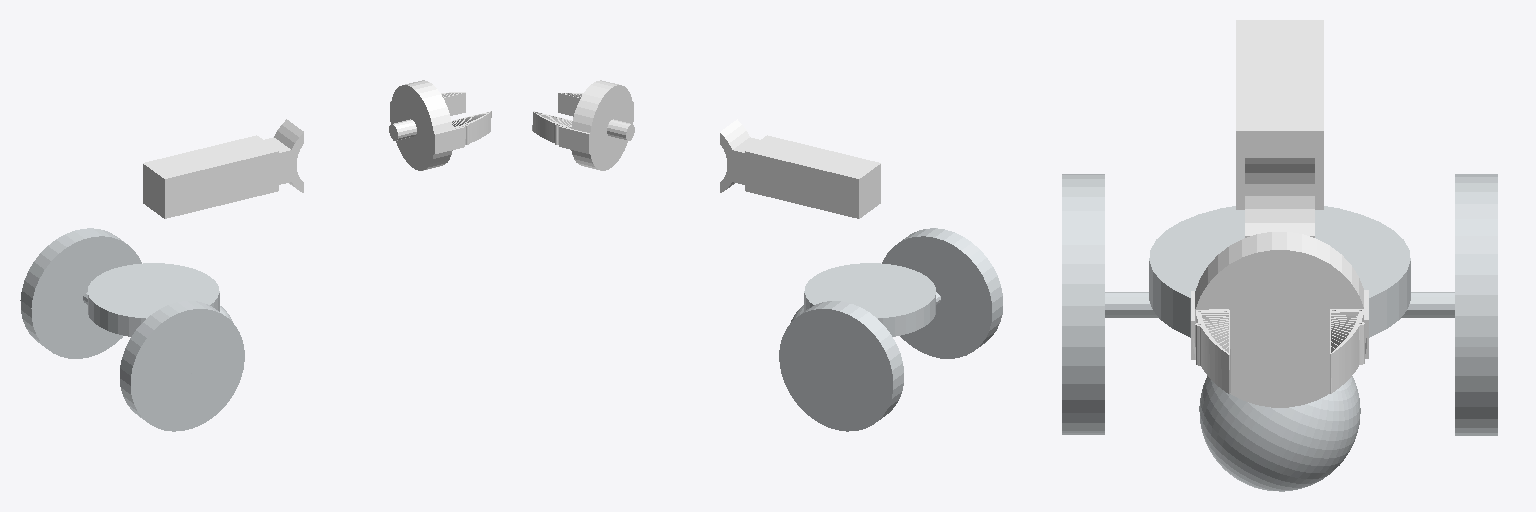
The robot description file, URDF, robot "new_car":
<?xml version="1.0" encoding="utf-8"?>
<!-- This URDF was automatically created by SolidWorks to URDF Exporter! Originally created by [author] ([email redacted]) 
     Commit Version: 1.6.0-4-g7f85cfe  Build Version: 1.6.7995.38578
     For more information, please see http://wiki.ros.org/sw_urdf_exporter -->
<robot
  name="new_car">
  <link
    name="base_link">
    <inertial>
      <origin
        xyz="-0.0053092 -6.6041E-17 0.018692"
        rpy="0 0 0" />
      <mass
        value="1000.782" />
      <inertia
        ixx="0.080482"
        ixy="2.0627E-16"
        ixz="-0.0029975"
        iyy="0.062244"
        iyz="-3.5525E-17"
        izz="0.13176" />
    </inertial>
    <visual>
      <origin
        xyz="0 0 0"
        rpy="0 0 0" />
      <geometry>
        <mesh
          filename="package://new_car/meshes/base_link.STL" />
      </geometry>
      <material
        name="">
        <color
          rgba="0.89804 0.91765 0.92941 1" />
      </material>
    </visual>
    <collision>
      <origin
        xyz="0 0 0"
        rpy="0 0 0" />
      <geometry>
        <mesh
          filename="package://new_car/meshes/base_link.STL" />
      </geometry>
    </collision>
  </link>
  <link
    name="castwheel">
    <inertial>
      <origin
        xyz="-0.063618 0.0087179 -0.089187"
        rpy="0 0 0" />
      <mass
        value="8.9511" />
      <inertia
        ixx="0.030635"
        ixy="8.6736E-19"
        ixz="0"
        iyy="0.030635"
        iyz="4.3368E-19"
        izz="0.030635" />
    </inertial>
    <visual>
      <origin
        xyz="0 0 0"
        rpy="0 0 0" />
      <geometry>
        <mesh
          filename="package://new_car/meshes/castwheel.STL" />
      </geometry>
      <material
        name="">
        <color
          rgba="0.89804 0.91765 0.92941 1" />
      </material>
    </visual>
    <collision>
      <origin
        xyz="0 0 0"
        rpy="0 0 0" />
      <geometry>
        <mesh
          filename="package://new_car/meshes/castwheel.STL" />
      </geometry>
    </collision>
  </link>
  <joint
    name="castwheel_joint"
    type="continuous">
    <origin
      xyz="1.422E-05 0.00125 -0.0925"
      rpy="1.7999 -0.42435 -2.2705" />
    <parent
      link="base_link" />
    <child
      link="castwheel" />
    <axis
      xyz="0.57888 -0.079328 0.81154" />
  </joint>
  <link
    name="leftwheel">
    <inertial>
      <origin
        xyz="6.245E-17 3.8164E-17 0.024994"
        rpy="0 0 0" />
      <mass
        value="9.4472" />
      <inertia
        ixx="0.05564"
        ixy="2.1684E-18"
        ixz="3.8272E-17"
        iyy="0.05564"
        iyz="4.9148E-17"
        izz="0.10734" />
    </inertial>
    <visual>
      <origin
        xyz="0 0 0"
        rpy="0 0 0" />
      <geometry>
        <mesh
          filename="package://new_car/meshes/leftwheel.STL" />
      </geometry>
      <material
        name="">
        <color
          rgba="0.89804 0.91765 0.92941 1" />
      </material>
    </visual>
    <collision>
      <origin
        xyz="0 0 0"
        rpy="0 0 0" />
      <geometry>
        <mesh
          filename="package://new_car/meshes/leftwheel.STL" />
      </geometry>
    </collision>
  </link>
  <joint
    name="leftwheel_joint"
    type="continuous">
    <origin
      xyz="-0.055 0.20001 -0.035"
      rpy="-1.5708 -0.10501 0" />
    <parent
      link="base_link" />
    <child
      link="leftwheel" />
    <axis
      xyz="0 0 1" />
  </joint>
  <link
    name="rightwheel">
    <inertial>
      <origin
        xyz="-4.5103E-17 8.3267E-17 -0.024994"
        rpy="0 0 0" />
      <mass
        value="9.4472" />
      <inertia
        ixx="0.05564"
        ixy="-5.2042E-18"
        ixz="2.2335E-17"
        iyy="0.05564"
        iyz="-2.5045E-17"
        izz="0.10734" />
    </inertial>
    <visual>
      <origin
        xyz="0 0 0"
        rpy="0 0 0" />
      <geometry>
        <mesh
          filename="package://new_car/meshes/rightwheel.STL" />
      </geometry>
      <material
        name="">
        <color
          rgba="0.89804 0.91765 0.92941 1" />
      </material>
    </visual>
    <collision>
      <origin
        xyz="0 0 0"
        rpy="0 0 0" />
      <geometry>
        <mesh
          filename="package://new_car/meshes/rightwheel.STL" />
      </geometry>
    </collision>
  </link>
  <joint
    name="rightwheel_joint"
    type="continuous">
    <origin
      xyz="-0.0549999999999977 -0.200006469136745 -0.035"
      rpy="-1.5707963267949 0.939281776145976 0" />
    <parent
      link="base_link" />
    <child
      link="rightwheel" />
    <axis
      xyz="0 0 1" />
  </joint>
  <link
    name="link1">
    <inertial>
      <origin
        xyz="-0.020977 -1.0815E-17 0.15"
        rpy="0 0 0" />
      <mass
        value="7.0138" />
      <inertia
        ixx="0.07535"
        ixy="-5.8005E-18"
        ixz="-6.1527E-18"
        iyy="0.065314"
        iyz="5.722E-18"
        izz="0.035458" />
    </inertial>
    <visual>
      <origin
        xyz="0 0 0"
        rpy="0 0 0" />
      <geometry>
        <mesh
          filename="package://new_car/meshes/link1.STL" />
      </geometry>
      <material
        name="">
        <color
          rgba="1 1 1 0.35" />
      </material>
    </visual>
    <collision>
      <origin
        xyz="0 0 0"
        rpy="0 0 0" />
      <geometry>
        <mesh
          filename="package://new_car/meshes/link1.STL" />
      </geometry>
    </collision>
  </link>
  <joint
    name="joint1"
    type="revolute">
    <origin
      xyz="0 0 0.05"
      rpy="0 0 0" />
    <parent
      link="base_link" />
    <child
      link="link1" />
    <axis
      xyz="0 0 1" />
    <limit
      lower="-3.14"
      upper="3.14"
      effort="50"
      velocity="1.5" />
  </joint>
  <link
    name="link2">
    <inertial>
      <origin
        xyz="0.13517 -2.2714E-16 0"
        rpy="0 0 0" />
      <mass
        value="1.2926" />
      <inertia
        ixx="0.0033047"
        ixy="-8.1315E-19"
        ixz="2.0289E-19"
        iyy="0.012724"
        iyz="-4.5666E-19"
        izz="0.012724" />
    </inertial>
    <visual>
      <origin
        xyz="0 0 0"
        rpy="0 0 0" />
      <geometry>
        <mesh
          filename="package://new_car/meshes/link2.STL" />
      </geometry>
      <material
        name="">
        <color
          rgba="1 1 1 0.35" />
      </material>
    </visual>
    <collision>
      <origin
        xyz="0 0 0"
        rpy="0 0 0" />
      <geometry>
        <mesh
          filename="package://new_car/meshes/link2.STL" />
      </geometry>
    </collision>
  </link>
  <joint
    name="joint2"
    type="prismatic">
    <origin
      xyz="0 0 0.25"
      rpy="0 0 0" />
    <parent
      link="link1" />
    <child
      link="link2" />
    <axis
      xyz="0 0 1" />
    <limit
      lower="-0.2"
      upper="0"
      effort="10"
      velocity="1.5" />
  </joint>
  <link
    name="link3">
    <inertial>
      <origin
        xyz="-0.0942552370102731 -6.76542155630955E-17 2.22044604925031E-16"
        rpy="0 0 0" />
      <mass
        value="2.28787766720044" />
      <inertia
        ixx="0.00274830854445484"
        ixy="-4.08608693755474E-18"
        ixz="1.73045038288303E-18"
        iyy="0.0226475881994451"
        iyz="-5.69070397270195E-18"
        izz="0.022339682500004" />
    </inertial>
    <visual>
      <origin
        xyz="0 0 0"
        rpy="0 0 0" />
      <geometry>
        <mesh
          filename="package://new_car/meshes/link3.STL" />
      </geometry>
      <material
        name="">
        <color
          rgba="1 1 1 0.35" />
      </material>
    </visual>
    <collision>
      <origin
        xyz="0 0 0"
        rpy="0 0 0" />
      <geometry>
        <mesh
          filename="package://new_car/meshes/link3.STL" />
      </geometry>
    </collision>
  </link>
  <joint
    name="joint3"
    type="prismatic">
    <origin
      xyz="0.3 0 0"
      rpy="0 0 0" />
    <parent
      link="link2" />
    <child
      link="link3" />
    <axis
      xyz="-1 0 0" />
    <limit
      lower="0"
      upper="0.26"
      effort="10"
      velocity="1.5" />
  </joint>
  <link
    name="link4">
    <inertial>
      <origin
        xyz="0.076653 -1.0929E-16 -5.5511E-17"
        rpy="0 0 0" />
      <mass
        value="2.5617" />
      <inertia
        ixx="0.0037141"
        ixy="5.421E-20"
        ixz="-3.2609E-19"
        iyy="0.023523"
        iyz="3.0633E-19"
        izz="0.022599" />
    </inertial>
    <visual>
      <origin
        xyz="0 0 0"
        rpy="0 0 0" />
      <geometry>
        <mesh
          filename="package://new_car/meshes/link4.STL" />
      </geometry>
      <material
        name="">
        <color
          rgba="1 1 1 0.35" />
      </material>
    </visual>
    <collision>
      <origin
        xyz="0 0 0"
        rpy="0 0 0" />
      <geometry>
        <mesh
          filename="package://new_car/meshes/link4.STL" />
      </geometry>
    </collision>
  </link>
  <joint
    name="joint4"
    type="revolute">
    <origin
      xyz="0.1216 0 0"
      rpy="0 0 0" />
    <parent
      link="link3" />
    <child
      link="link4" />
    <axis
      xyz="0 1 0" />
    <limit
      lower="-1.57"
      upper="1.57"
      effort="50"
      velocity="1.5" />
  </joint>
  <link
    name="link5">
    <inertial>
      <origin
        xyz="0.023312 -2.6888E-17 5.5511E-17"
        rpy="0 0 0" />
      <mass
        value="1.7726" />
      <inertia
        ixx="0.0086712"
        ixy="-4.3029E-19"
        ixz="-4.9659E-19"
        iyy="0.0047611"
        iyz="-1.3921E-06"
        izz="0.0050018" />
    </inertial>
    <visual>
      <origin
        xyz="0 0 0"
        rpy="0 0 0" />
      <geometry>
        <mesh
          filename="package://new_car/meshes/link5.STL" />
      </geometry>
      <material
        name="">
        <color
          rgba="1 1 1 0.35" />
      </material>
    </visual>
    <collision>
      <origin
        xyz="0 0 0"
        rpy="0 0 0" />
      <geometry>
        <mesh
          filename="package://new_car/meshes/link5.STL" />
      </geometry>
    </collision>
  </link>
  <joint
    name="joint5"
    type="revolute">
    <origin
      xyz="0.25745 0 0"
      rpy="0 0 0" />
    <parent
      link="link4" />
    <child
      link="link5" />
    <axis
      xyz="1 0 0" />
    <limit
      lower="-3.14"
      upper="3.14"
      effort="50"
      velocity="1.5" />
  </joint>
  <link
    name="finger1">
    <inertial>
      <origin
        xyz="0.0431914558074192 0.00222291741094893 1.66533453693773E-16"
        rpy="0 0 0" />
      <mass
        value="0.0976142957842524" />
      <inertia
        ixx="3.3639206496037E-05"
        ixy="-1.20897051606813E-05"
        ixz="7.59655791198793E-20"
        iyy="0.000119799305634777"
        iyz="3.45196492914701E-20"
        izz="0.000112765888887376" />
    </inertial>
    <visual>
      <origin
        xyz="0 0 0"
        rpy="0 0 0" />
      <geometry>
        <mesh
          filename="package://new_car/meshes/finger1.STL" />
      </geometry>
      <material
        name="">
        <color
          rgba="1 1 1 0.35" />
      </material>
    </visual>
    <collision>
      <origin
        xyz="0 0 0"
        rpy="0 0 0" />
      <geometry>
        <mesh
          filename="package://new_car/meshes/finger1.STL" />
      </geometry>
    </collision>
  </link>
  <joint
    name="fin1"
    type="prismatic">
    <origin
      xyz="0.05 -0.076716 -0.00044365"
      rpy="0.0057829 0 0" />
    <parent
      link="link5" />
    <child
      link="finger1" />
    <axis
      xyz="0 -0.99998 0.0057829" />
    <limit
      lower="0"
      upper="0.05"
      effort="30"
      velocity="1" />
  </joint>
  <link
    name="finger2">
    <inertial>
      <origin
        xyz="0.043191 -0.0022229 2.1094E-15"
        rpy="0 0 0" />
      <mass
        value="0.097614" />
      <inertia
        ixx="3.3639E-05"
        ixy="1.209E-05"
        ixz="1.775E-20"
        iyy="0.0001198"
        iyz="1.1095E-19"
        izz="0.00011277" />
    </inertial>
    <visual>
      <origin
        xyz="0 0 0"
        rpy="0 0 0" />
      <geometry>
        <mesh
          filename="package://new_car/meshes/finger2.STL" />
      </geometry>
      <material
        name="">
        <color
          rgba="1 1 1 0.35" />
      </material>
    </visual>
    <collision>
      <origin
        xyz="0 0 0"
        rpy="0 0 0" />
      <geometry>
        <mesh
          filename="package://new_car/meshes/finger2.STL" />
      </geometry>
    </collision>
  </link>
  <joint
    name="fin2"
    type="prismatic">
    <origin
      xyz="0.05 0.077005 0.00044532"
      rpy="0.0057829 0 0" />
    <parent
      link="link5" />
    <child
      link="finger2" />
    <axis
      xyz="0 -0.99998 0.0057829" />
    <limit
      lower="0"
      upper="0"
      effort="30"
      velocity="1" />
    <mimic
      joint="fin1"
      multiplier="-1"
      offset="0" />
  </joint>
</robot>

--- What the picture shows (computed from the rendered views, not written in the file) ---
3 views of the same robot in one strip: view 1: azimuth 30°, elevation 25°; view 2: azimuth 150°, elevation 25°; view 3: azimuth 270°, elevation 25° (orthographic).
Robot: new_car — 11 links, 10 joints (3 revolute, 3 continuous, 4 prismatic); root link base_link; default pose: every joint at zero.
Visible links, largest first — view 1: rightwheel, leftwheel, link2, base_link, link5, link3, finger1; view 2: leftwheel, rightwheel, link2, base_link, link5, link3, finger2; view 3: link5, base_link, castwheel, link2, leftwheel, rightwheel, link3, finger1, finger2.
Boxes of the visible links, x1,y1,x2,y2 form: rightwheel: (120,301,244,431); leftwheel: (20,228,141,358); link2: (143,135,278,218); base_link: (83,263,219,375); link5: (389,80,465,170); link3: (264,119,303,192); finger1: (452,111,491,144); leftwheel: (779,301,903,431); rightwheel: (882,228,1002,358); link2: (745,135,880,218); base_link: (804,263,940,375); link5: (559,80,634,170); link3: (720,119,759,192); finger2: (532,111,571,144); link5: (1191,232,1368,407); base_link: (1105,206,1454,337); castwheel: (1199,376,1360,491); link2: (1236,20,1323,209); leftwheel: (1455,174,1497,435); rightwheel: (1062,174,1104,434); link3: (1245,136,1314,237); finger1: (1195,309,1230,393); finger2: (1330,309,1364,393).
Size in the robot's own frame: 1.06 by 0.5 by 0.5846 metres.
Meshes: 11 distinct files referenced, 9 mesh visuals loaded (9 binary STL); not drawn: 2 (reference not matched to a file when rendering).